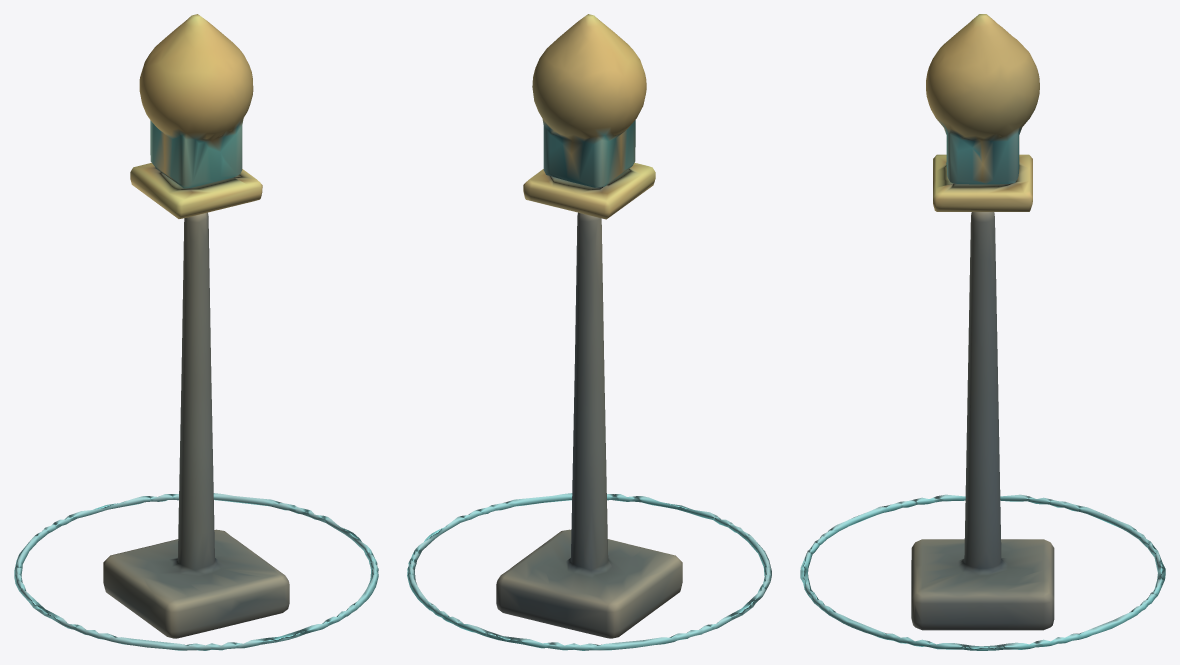
Rendered from env_p_lantern.glb.
3 views of the same model, side by side, from view 1: azimuth 30°, elevation 25°; view 2: azimuth 150°, elevation 25°; view 3: azimuth 270°, elevation 25° (orthographic).
Parts seen in each view (by area): view 1: geometry_0; view 2: geometry_0; view 3: geometry_0.
Boxes of the visible parts, <box> form: geometry_0: <box>14,14,378,650</box>; geometry_0: <box>407,14,771,650</box>; geometry_0: <box>800,14,1165,650</box>.
Bounding box in the file's own units: 2.04 × 3.65 × 2.04.
